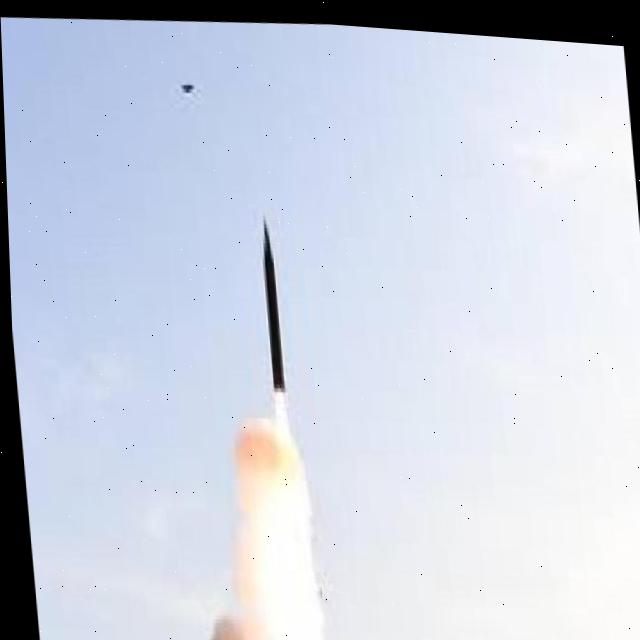missile: (248, 213, 288, 397)
